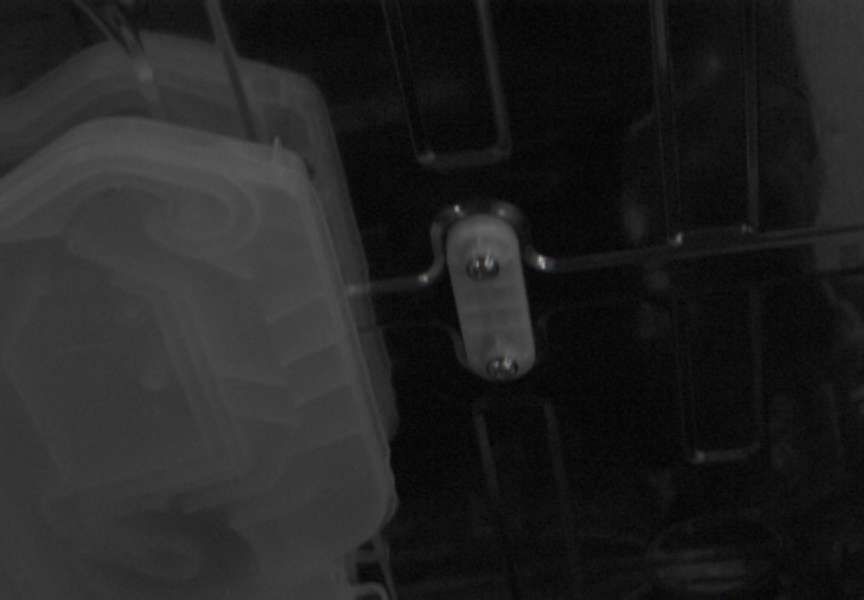screw: (466, 253, 500, 281), (486, 356, 519, 381)
